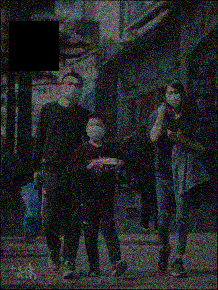with_mask: (61, 81, 83, 102), (86, 122, 105, 141), (165, 90, 183, 109)
